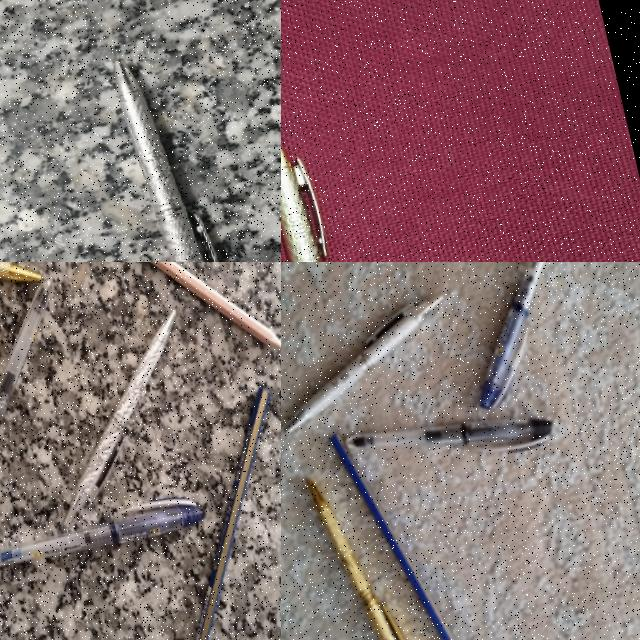pen: (438, 262, 611, 411), (0, 274, 97, 518), (342, 391, 552, 484), (0, 490, 205, 573)
pencil: (118, 389, 281, 640), (25, 262, 281, 397), (331, 433, 455, 640)
signature pen: (281, 294, 458, 434), (64, 310, 174, 527), (307, 466, 427, 640), (114, 60, 217, 261), (281, 146, 324, 262)
